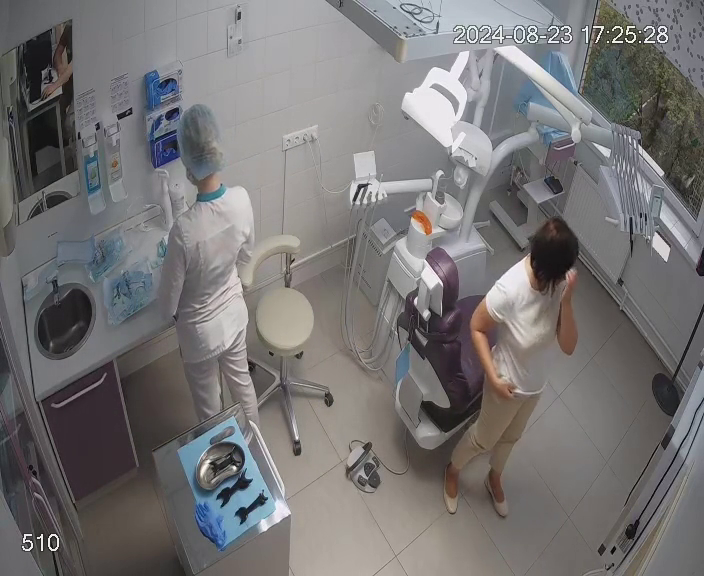Empty: (393, 237, 540, 459)
